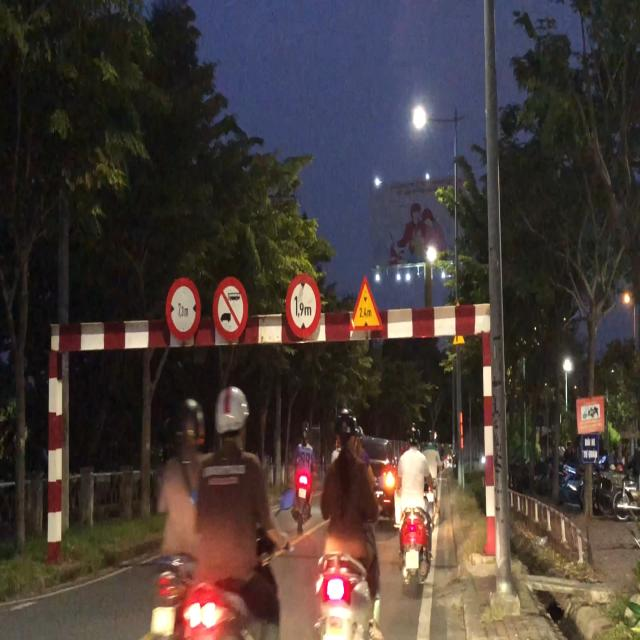Bien bao cam xe oto khach va xe oto tai: (210, 269, 250, 343)
Bien bao chieu cao tinh khong thuc te: (346, 271, 384, 334)
Bien bao han che chieu cao: (285, 271, 326, 345)
